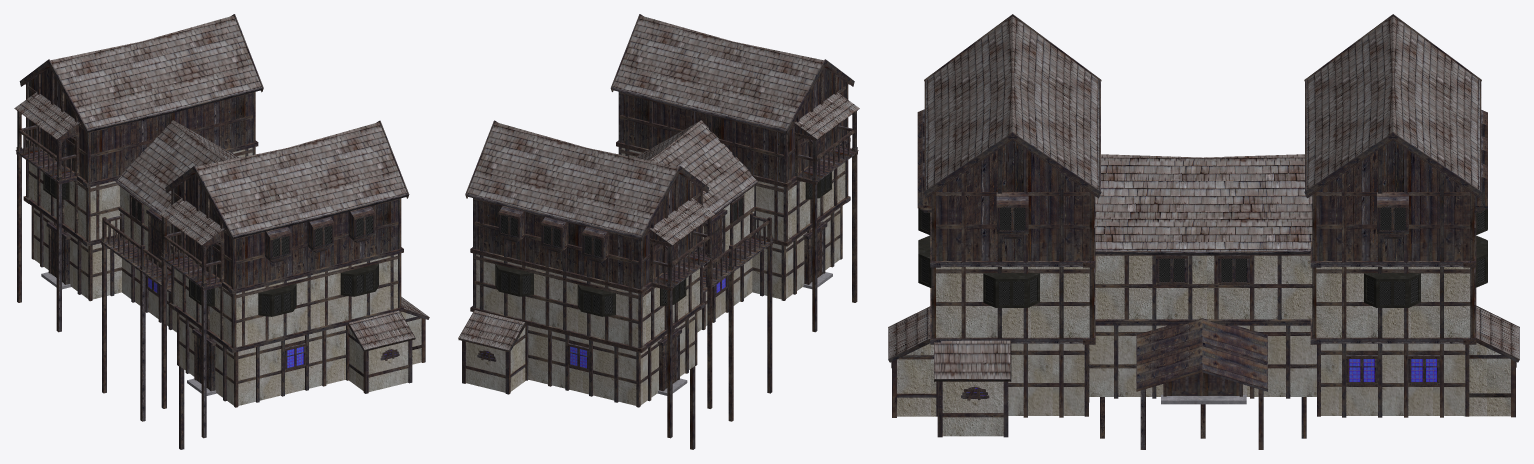
Rendered from hhouse05.dae.
3 views of the same model, side by side, from view 1: azimuth 30°, elevation 25°; view 2: azimuth 150°, elevation 25°; view 3: azimuth 270°, elevation 25° (orthographic). The views are drawn at different scales.
Visible parts, largest first — view 1: House2_Roof, House2_Roof_001, House2_Level2_001, House2_Level3, House2_Level3_001, House2_Level1_001, House1_Roof, House2_Level2_Beams_001, House2_Level1_Beams_001, House2_Level2, House2_Level3_Beams, House2_Level3_Beams_001 (+38 smaller); view 2: House2_Roof, House2_Roof_001, House2_Level2, House2_Level3, House2_Level3_001, House2_Level1, House1_Roof, House2_Level2_Beams, House2_Level3_Beams_001, House2_Level1_Beams, House2_Level3_Beams, House2_Level2_001 (+39 smaller); view 3: House1_Roof, House2_Roof, House2_Roof_001, House2_Level3_001, House2_Level3, House1_Level2, House2_Level2_001, House2_Level2, House2_Level1, House1_Level1, House2_Level1_001, Roof1Outer_001 (+37 smaller).
Part boxes in pixels (bbox=[...]): House2_Roof: bbox=[50, 15, 261, 129]; House2_Roof_001: bbox=[196, 122, 407, 235]; House2_Level2_001: bbox=[174, 254, 397, 347]; House2_Level3: bbox=[29, 67, 252, 181]; House2_Level3_001: bbox=[174, 174, 397, 288]; House2_Level1_001: bbox=[179, 314, 345, 405]; House1_Roof: bbox=[117, 120, 237, 213]; House2_Level2_Beams_001: bbox=[171, 250, 401, 348]; House2_Level1_Beams_001: bbox=[177, 312, 349, 407]; House2_Level2: bbox=[29, 147, 252, 240]; House2_Level3_Beams: bbox=[26, 69, 255, 182]; House2_Level3_Beams_001: bbox=[171, 176, 401, 289]; House2_Roof: bbox=[467, 122, 678, 235]; House2_Roof_001: bbox=[613, 15, 823, 129]; House2_Level2: bbox=[476, 254, 699, 347]; House2_Level3: bbox=[476, 174, 699, 288]; House2_Level3_001: bbox=[621, 67, 845, 181]; House2_Level1: bbox=[528, 314, 694, 405]; House1_Roof: bbox=[636, 120, 757, 213]; House2_Level2_Beams: bbox=[473, 250, 702, 348]; House2_Level3_Beams_001: bbox=[618, 70, 848, 182]; House2_Level1_Beams: bbox=[525, 312, 697, 407]; House2_Level3_Beams: bbox=[473, 176, 702, 289]; House2_Level2_001: bbox=[621, 148, 845, 240]; House1_Roof: bbox=[1095, 154, 1312, 251]; House2_Roof: bbox=[1306, 16, 1479, 189]; House2_Roof_001: bbox=[926, 16, 1099, 189]; House2_Level3_001: bbox=[936, 140, 1089, 260]; House2_Level3: bbox=[1316, 140, 1470, 260]; House1_Level2: bbox=[1095, 255, 1312, 319]; House2_Level2_001: bbox=[936, 267, 1089, 337]; House2_Level2: bbox=[1316, 267, 1470, 337]; House2_Level1: bbox=[1321, 343, 1465, 415]; House1_Level1: bbox=[1089, 325, 1316, 396]; House2_Level1_001: bbox=[1008, 343, 1084, 415]; Roof1Outer_001: bbox=[1137, 342, 1267, 388].
Size of the model in its own units: 11.35 by 19.7 by 14.09.
28 materials, 28 textured.
